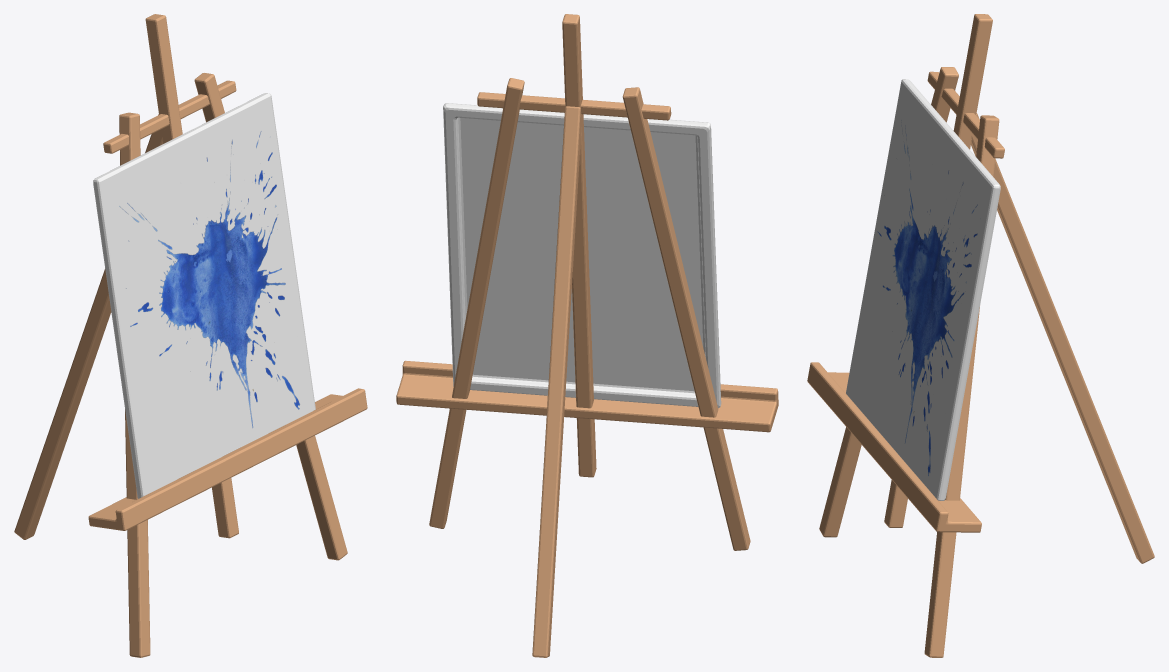
File: l_picture_paintingeasel_1.glb
3 renders of one model, left to right at view 1: azimuth 30°, elevation 25°; view 2: azimuth 150°, elevation 25°; view 3: azimuth 270°, elevation 25°, orthographic.
Visible parts, largest first — view 1: Staffel.001; view 2: Staffel.001; view 3: Staffel.001.
Boxes of the visible parts, box(x1,y1,x2,y2) form: Staffel.001: box(14, 14, 367, 657); Staffel.001: box(396, 14, 778, 657); Staffel.001: box(807, 14, 1154, 657).
Bounding box in the file's own units: 0.7824 × 1.32 × 0.7288.
Materials: 3 (1 with a texture image).
